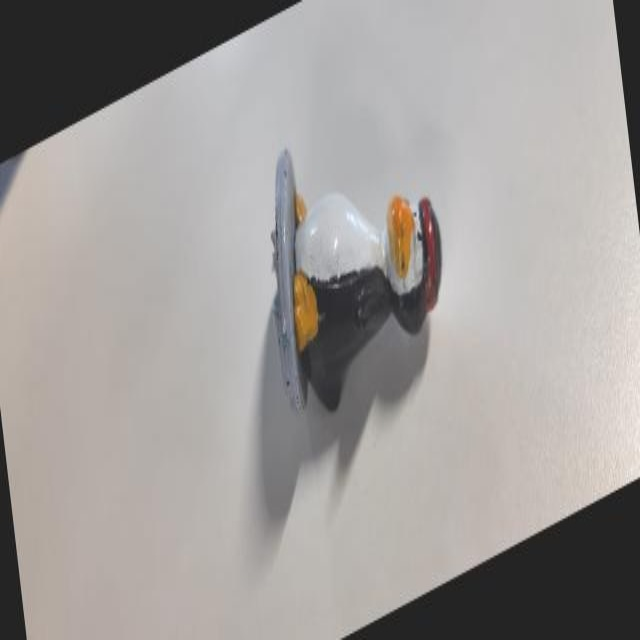Penguin: (253, 53, 460, 465)
